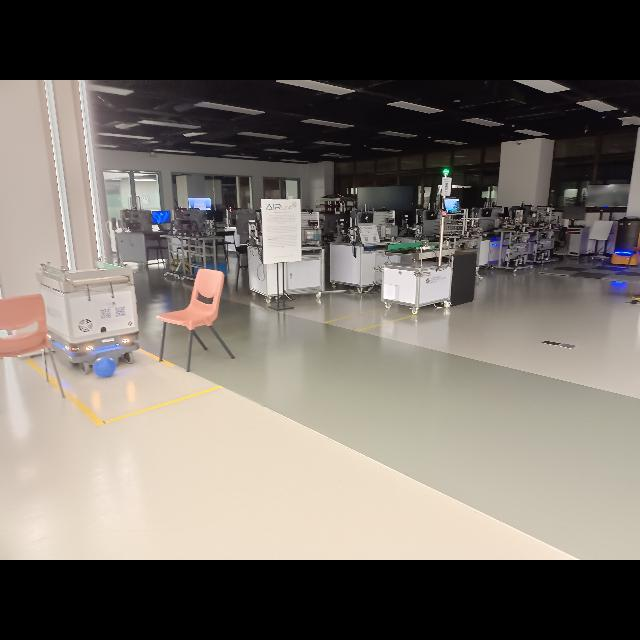B: (95, 357, 117, 378)
